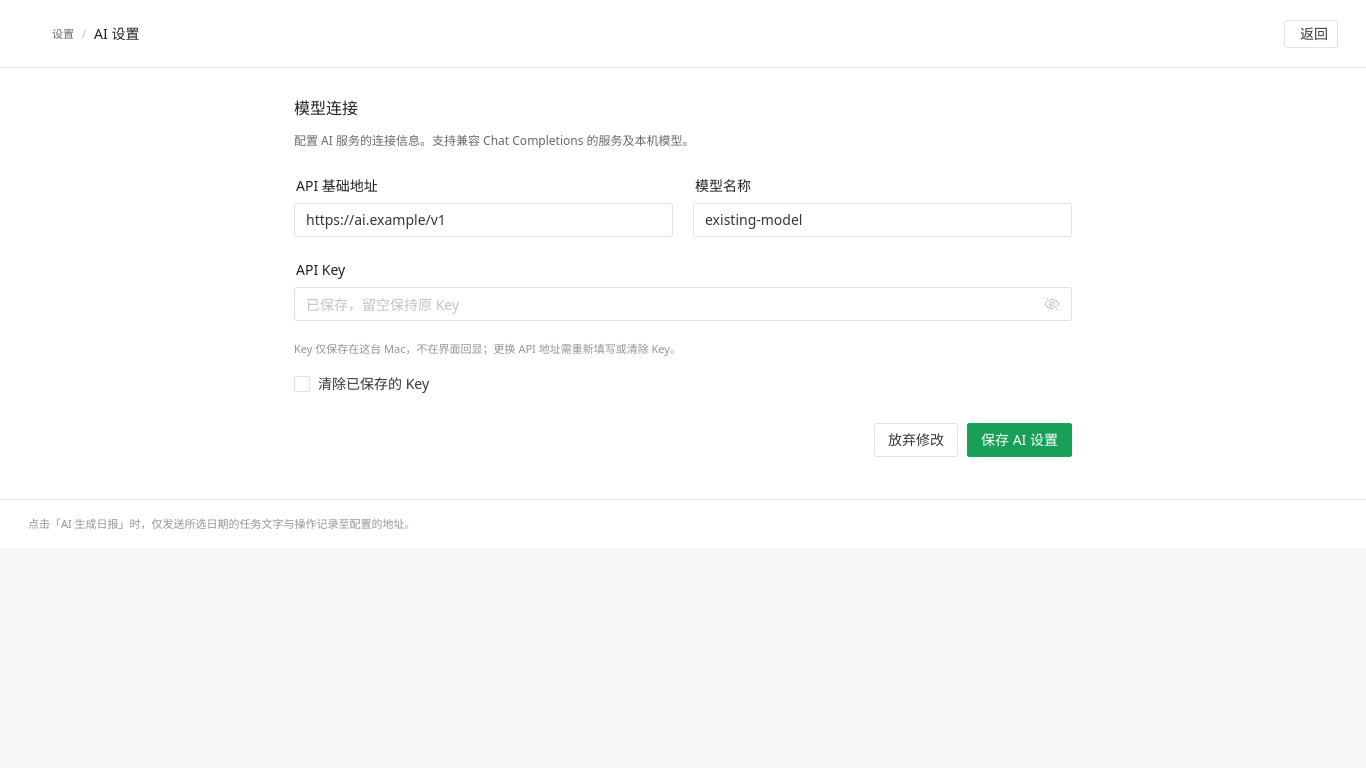
Test: independent AI settings page › keeps saved credentials when left blank, preserves failed edits, and supports discard
Replace the text in the field below "模型名称" with "new-model" at (882,220), box [705,203,1060,237]
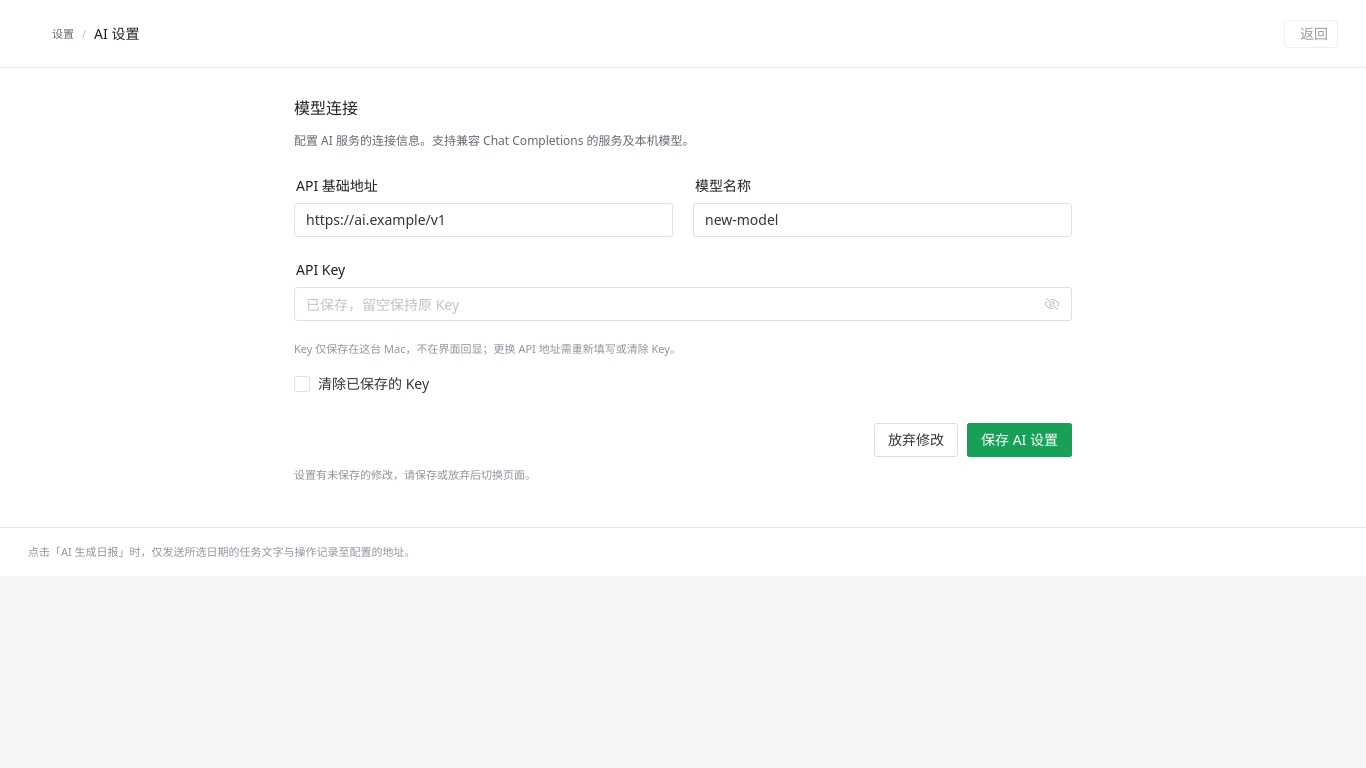
Submit the form, box [294,177,1072,485]
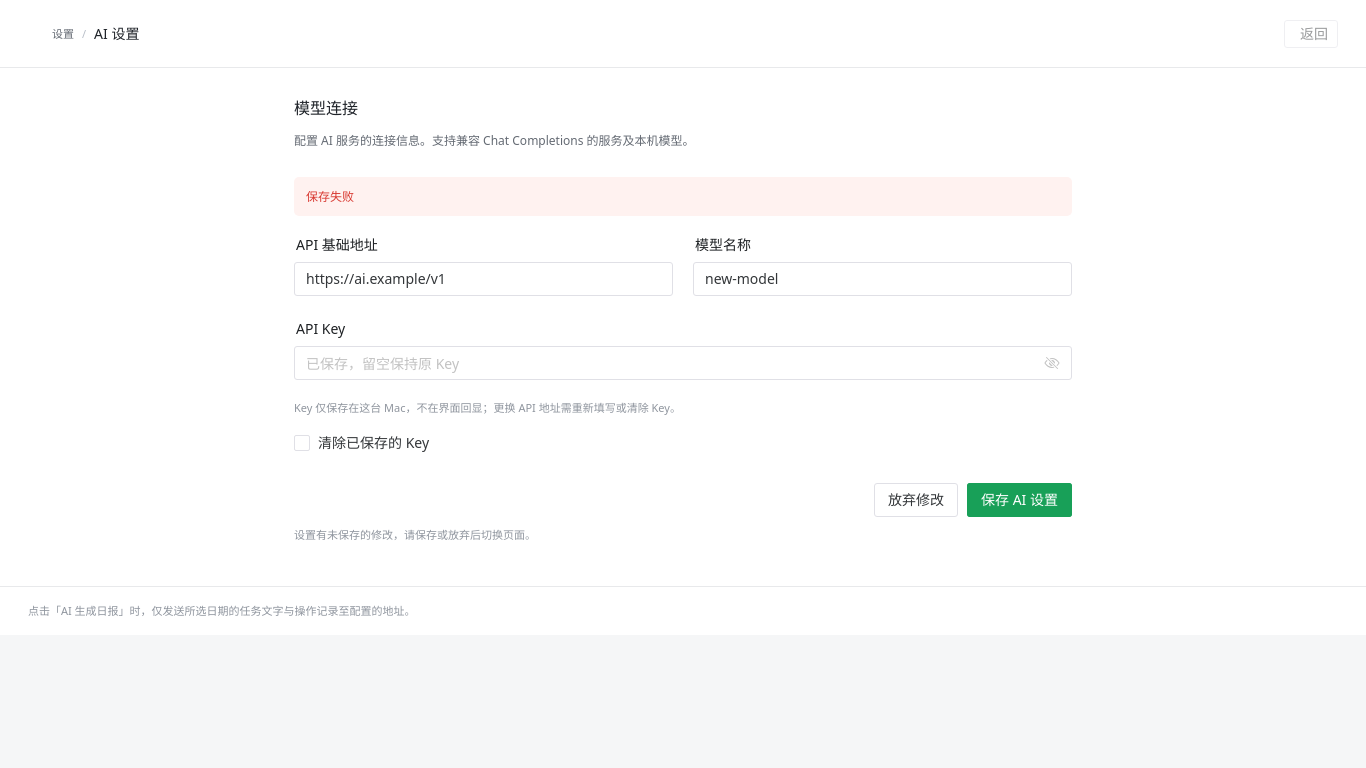
expect the message "保存失败" is shown: met, box [294,177,1072,216]
Click the button "放弃修改" at (916,500), box [874,483,958,517]
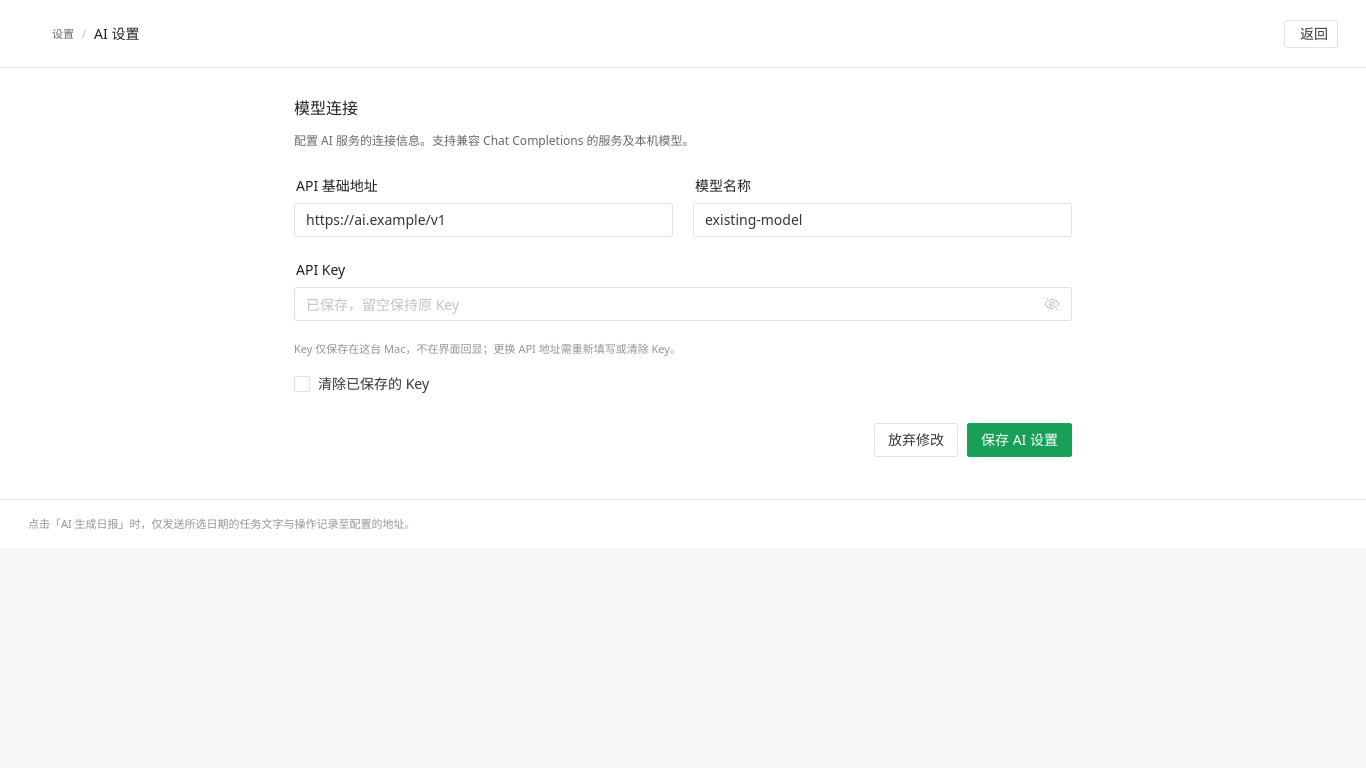
expect the field below "模型名称" holds "existing-model": met, box [705,203,1060,237]
